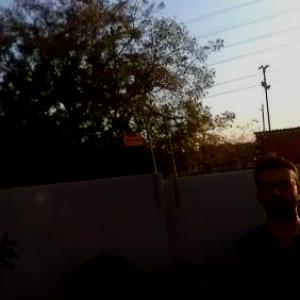follow: (231, 146, 300, 299)
